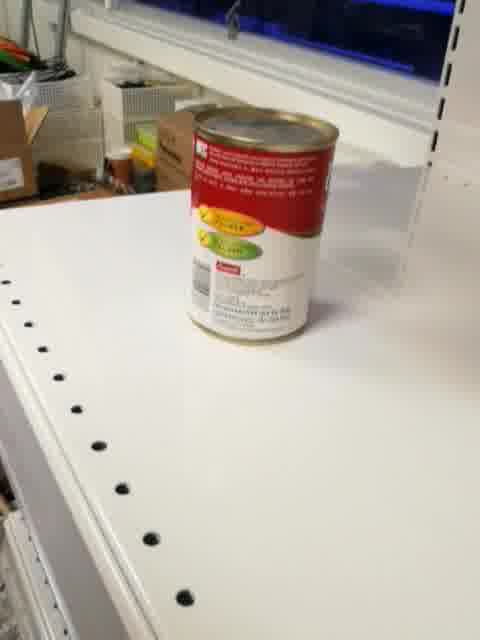tomatosoup: (183, 105, 343, 349)
